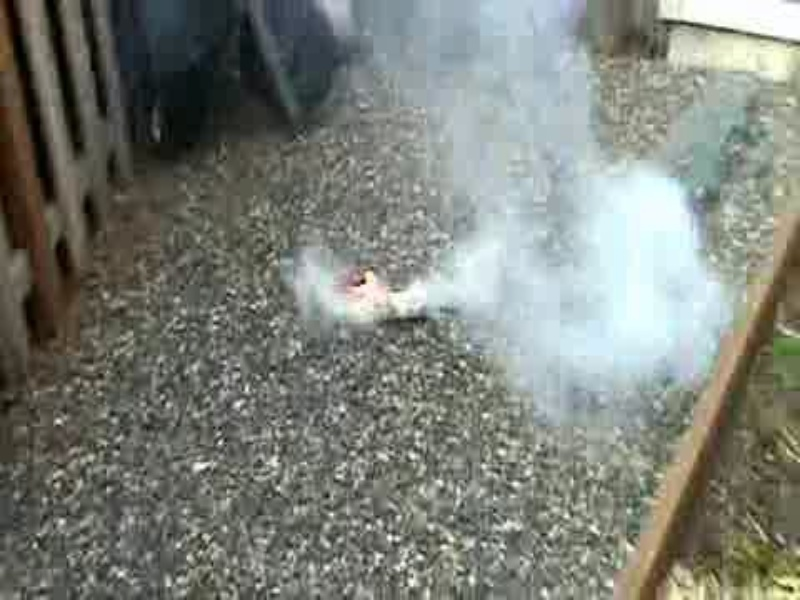smoke: (443, 172, 715, 374)
